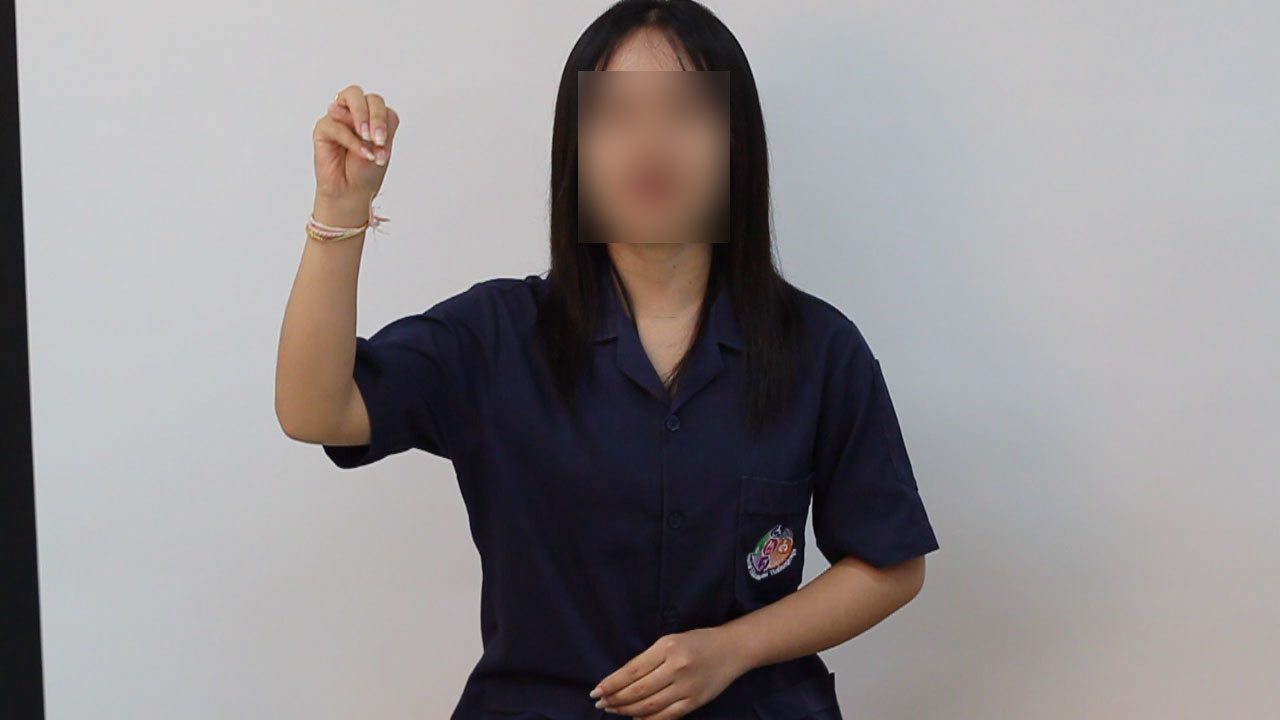mor: (307, 71, 405, 211)
